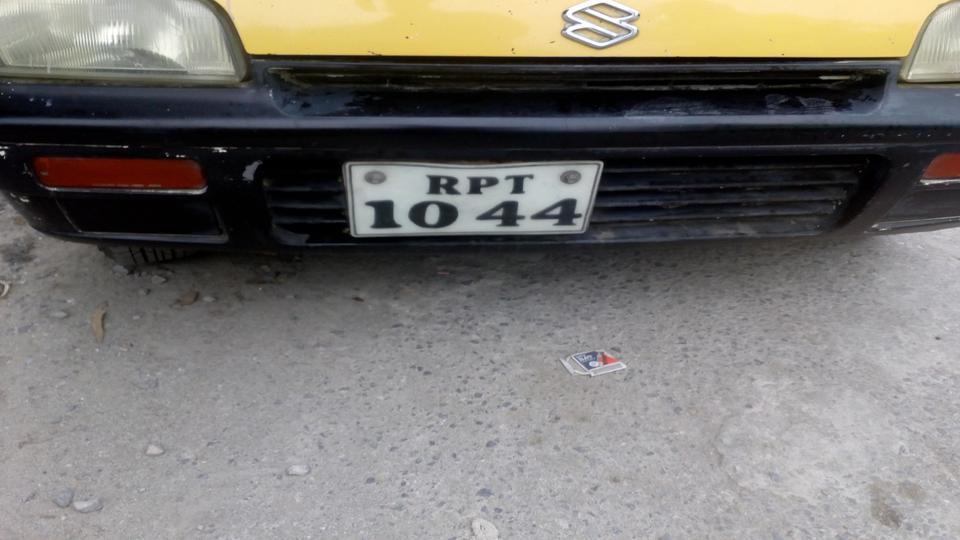NumberPlate: (347, 161, 600, 237)
